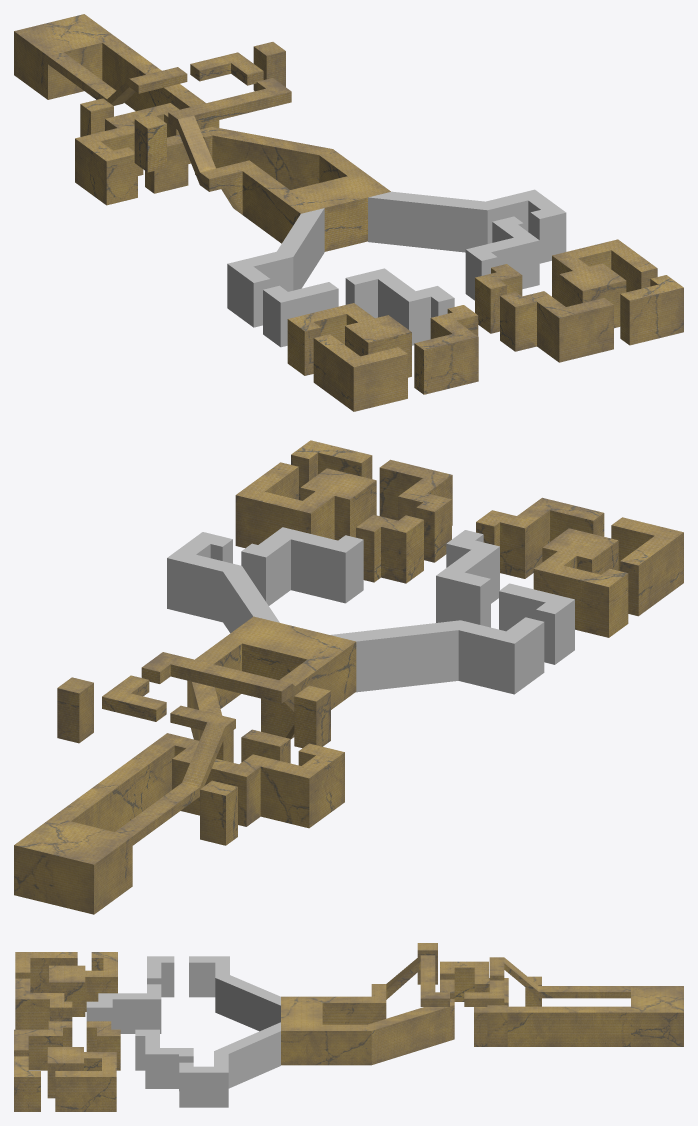
The model's file is tutorial_stage0818.fbx.
The picture shows the model from 3 angles, top to bottom: view 1: azimuth 30°, elevation 25°; view 2: azimuth 150°, elevation 25°; view 3: azimuth 270°, elevation 25°; orthographic projection. The views are drawn at different scales.
Visible parts, largest first — view 1: Plane.003, Plane.001, Plane.002, Plane.009, Plane.013, Plane.006, Plane.005, Plane.004, Plane.008, Plane.010, Plane.007, Plane.011 (+7 smaller); view 2: Plane.001, Plane.003, Plane.013, Plane.005, Plane.011, Plane.004, Plane.002, Plane.008, Plane.006, Plane.010, Plane.009, Plane (+7 smaller); view 3: Plane.003, Plane.001, Plane.002, Plane.005, Plane.013, Plane.004, Plane.010, Plane.011, Plane.008, Plane.009, Plane.006, Plane.007 (+6 smaller).
Boxes of the visible parts, x1,y1,x2,y2 form: Plane.003: (48,52,390,251); Plane.001: (14,14,219,205); Plane.002: (368,189,566,263); Plane.009: (500,291,613,362); Plane.013: (227,208,324,327); Plane.006: (313,334,407,411); Plane.005: (552,239,657,328); Plane.004: (287,303,411,377); Plane.008: (414,305,478,394); Plane.010: (345,268,454,345); Plane.007: (620,275,683,345); Plane.011: (465,216,539,300); Plane.001: (14,733,344,914); Plane.003: (115,616,356,845); Plane.013: (330,617,544,694); Plane.005: (235,462,376,548); Plane.011: (241,527,363,605); Plane.004: (533,528,628,637); Plane.002: (167,532,279,633); Plane.008: (476,497,604,578); Plane.006: (611,517,683,616); Plane.010: (436,530,499,627); Plane.009: (379,459,452,562); Plane: (356,514,423,583); Plane.003: (281,955,630,1065); Plane.001: (440,961,683,1046); Plane.002: (179,1022,280,1107); Plane.005: (47,1047,116,1111); Plane.013: (189,956,280,1031); Plane.004: (49,952,117,1016); Plane.010: (86,984,161,1033); Plane.011: (135,1029,193,1090); Plane.008: (15,978,72,1029); Plane.009: (14,1021,72,1070); Plane.006: (15,952,77,992); Plane.007: (14,1056,40,1111).
Size of the model in its own units: 597 by 141 by 1350.
